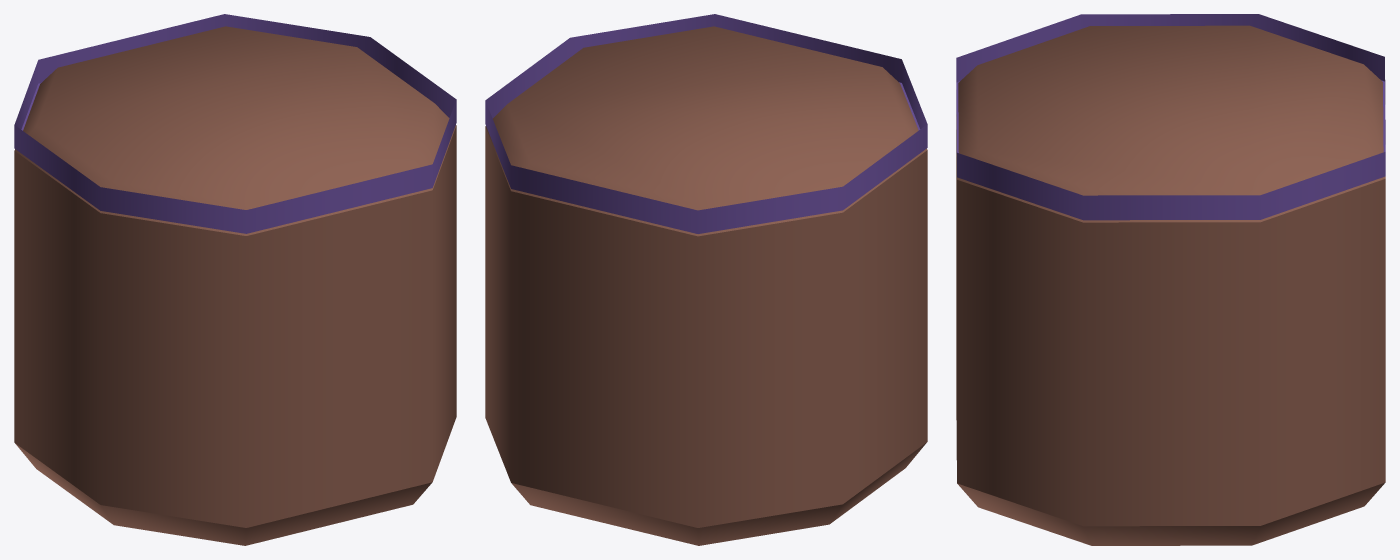
File: abajo.fbx
The picture shows the model from 3 angles, left to right: view 1: azimuth 30°, elevation 25°; view 2: azimuth 150°, elevation 25°; view 3: azimuth 270°, elevation 25°; orthographic projection. The views are drawn at different scales.
Parts seen in each view (by area): view 1: Abajo, Circle.006; view 2: Abajo, Circle.006; view 3: Abajo, Circle.006.
Part boxes in pixels (x1,y1,x2,y2): Abajo: (14,26,456,545); Circle.006: (14,14,456,233); Abajo: (485,26,927,545); Circle.006: (485,14,927,233); Abajo: (956,25,1385,545); Circle.006: (956,14,1385,220).
Bounding box in the file's own units: 259 × 239 × 259.
